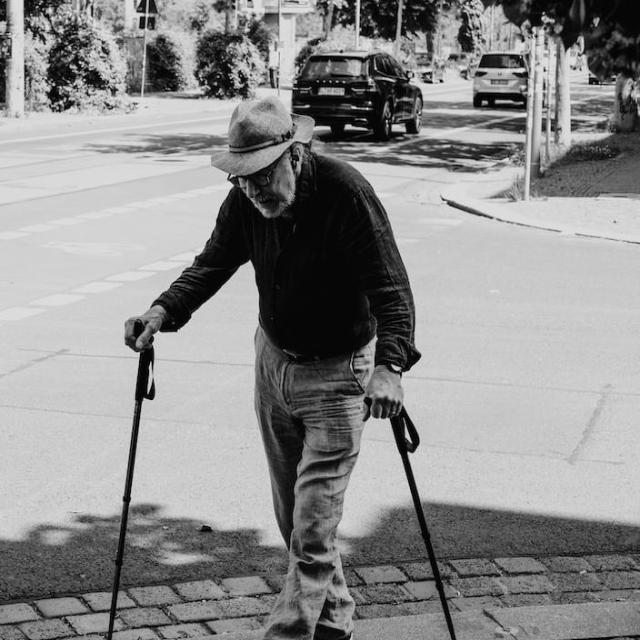idoso em pe: (181, 93, 402, 638)
